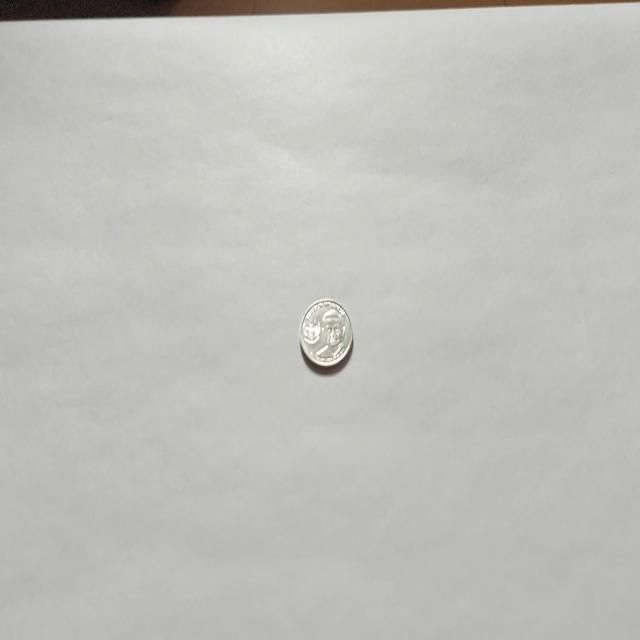seribu rupiah koin: (298, 296, 354, 369)
